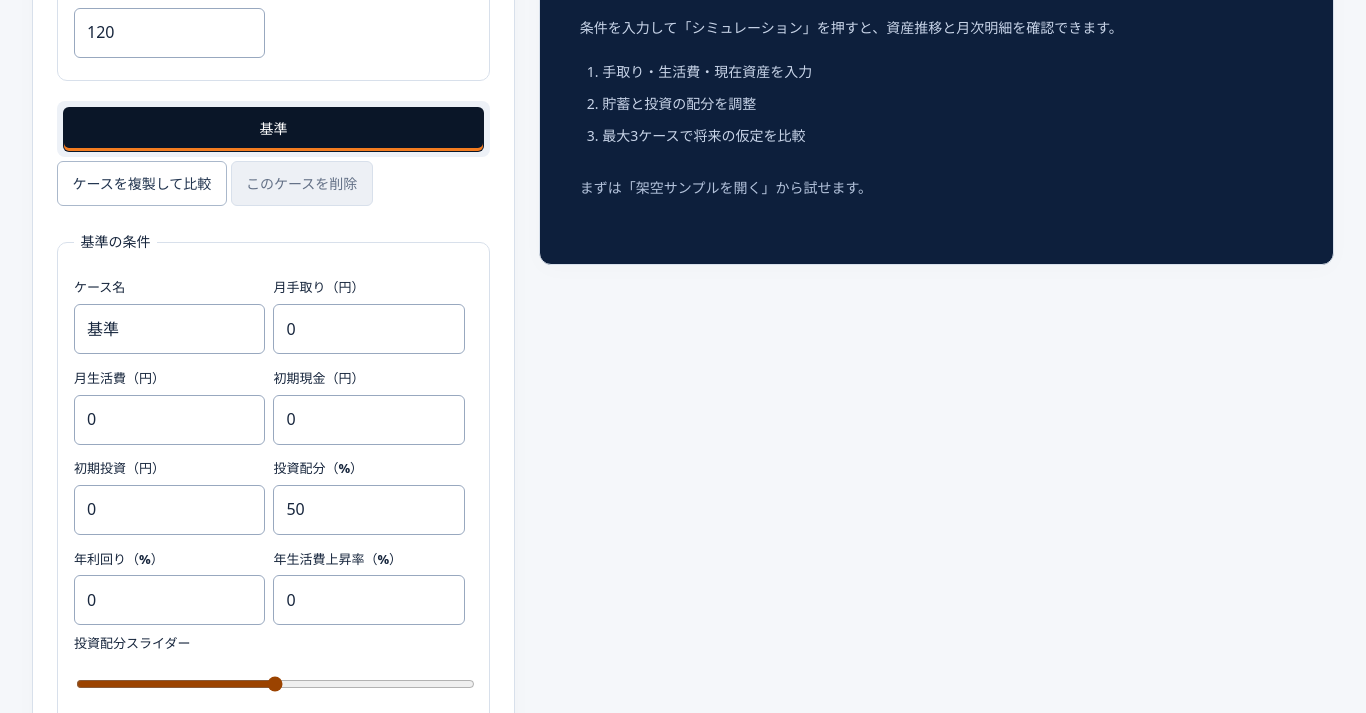
Test: editing and persistence › copies cases independently and limits comparison to three
(page scrolled)
Replace the text in the number field labelled "月手取り（円）" with "100": point(369, 329) top-left (273, 304), bottom-right (465, 354)
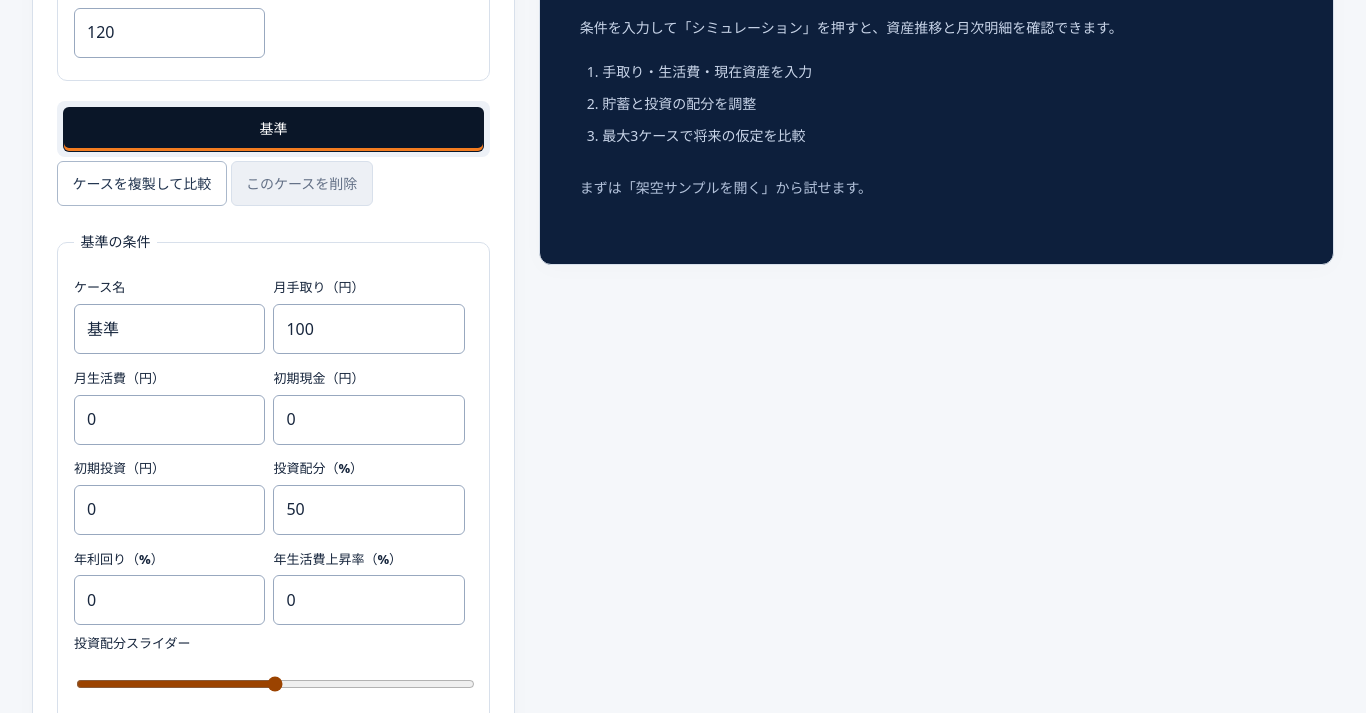
Click the button "ケースを複製して比較": point(142, 184) top-left (57, 161), bottom-right (227, 206)
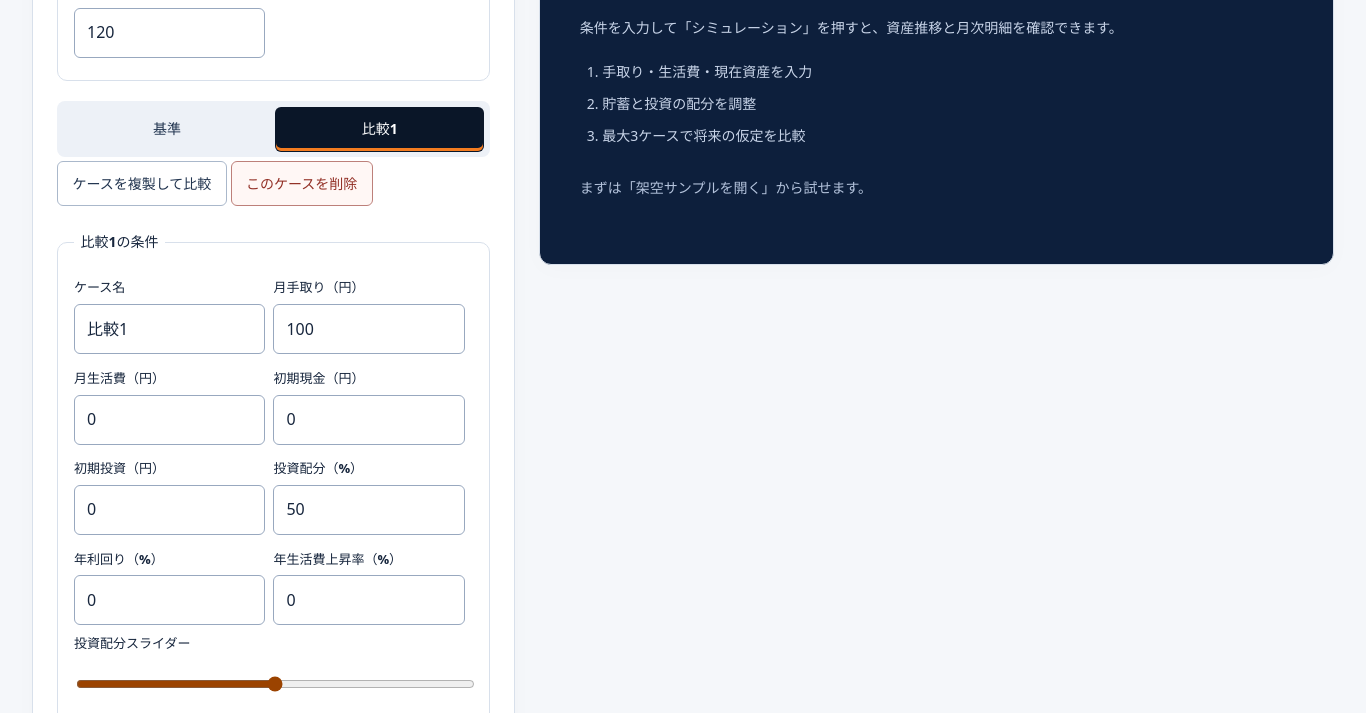
Replace the text in the number field labelled "月手取り（円）" with "200": point(369, 329) top-left (273, 304), bottom-right (465, 354)
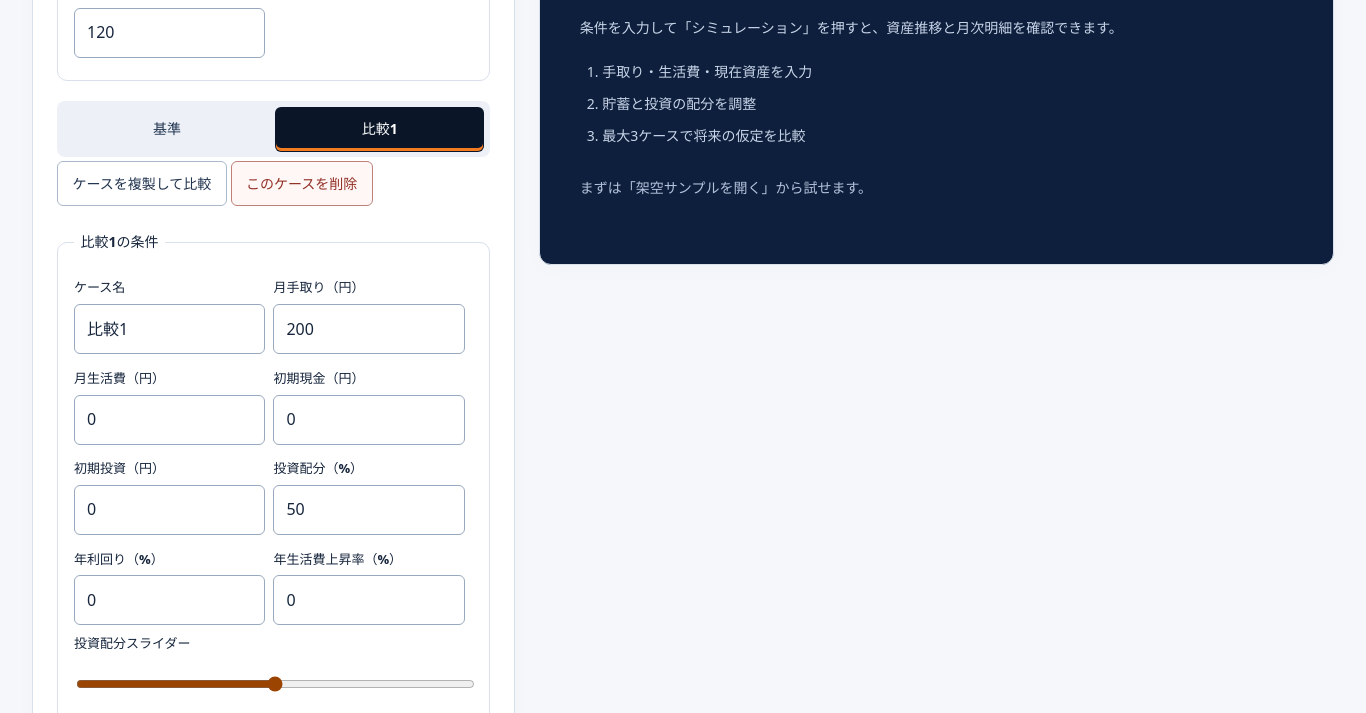
Click the button "基準": point(167, 129) top-left (63, 107), bottom-right (271, 152)
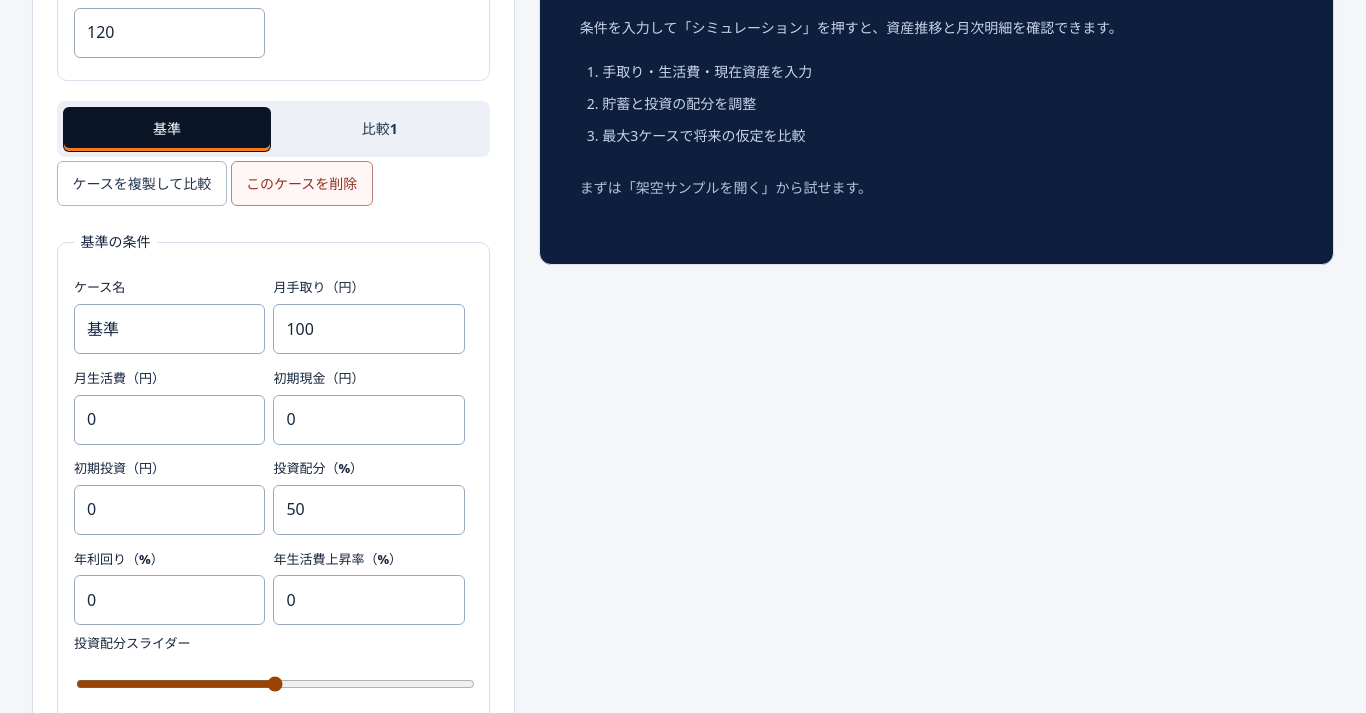
Check: the number field labelled "月手取り（円）" holds "100", box top-left (273, 304), bottom-right (465, 354)
Click the button "ケースを複製して比較": point(142, 184) top-left (57, 161), bottom-right (227, 206)
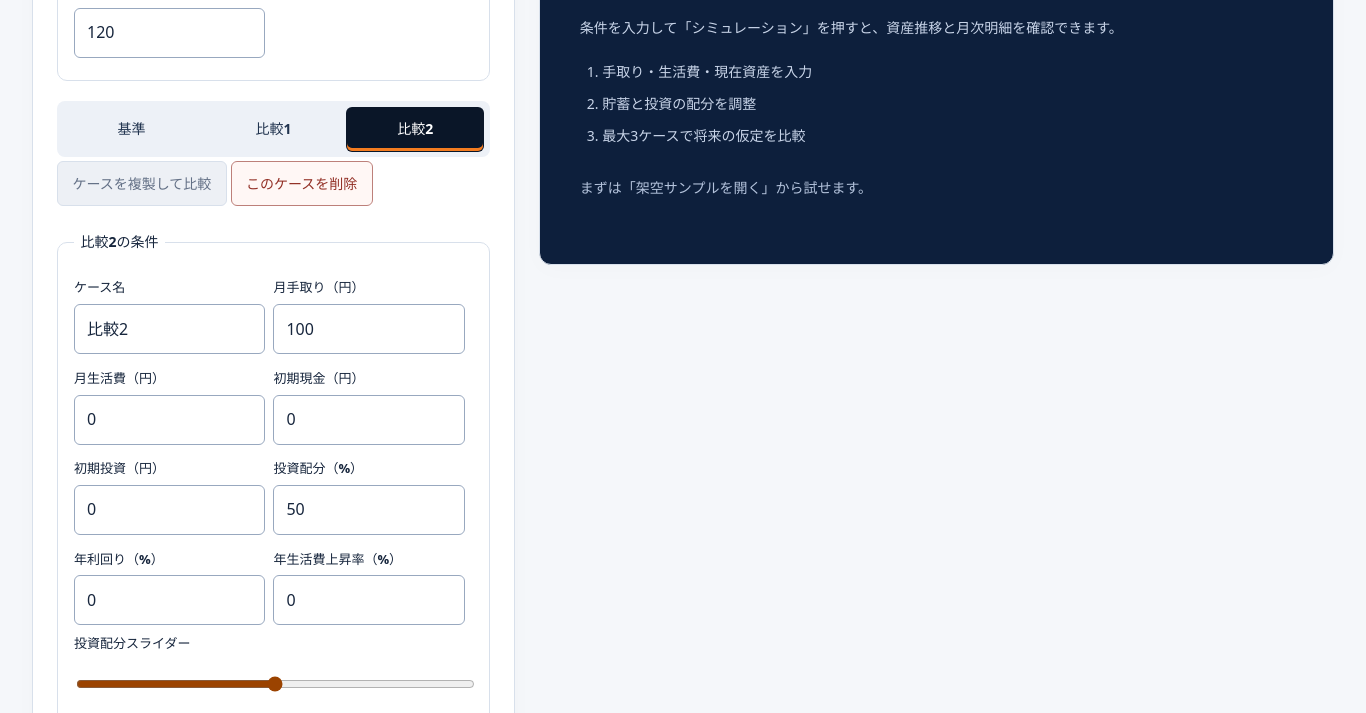
Check: the button "ケースを複製して比較" is disabled, box top-left (57, 161), bottom-right (227, 206)
